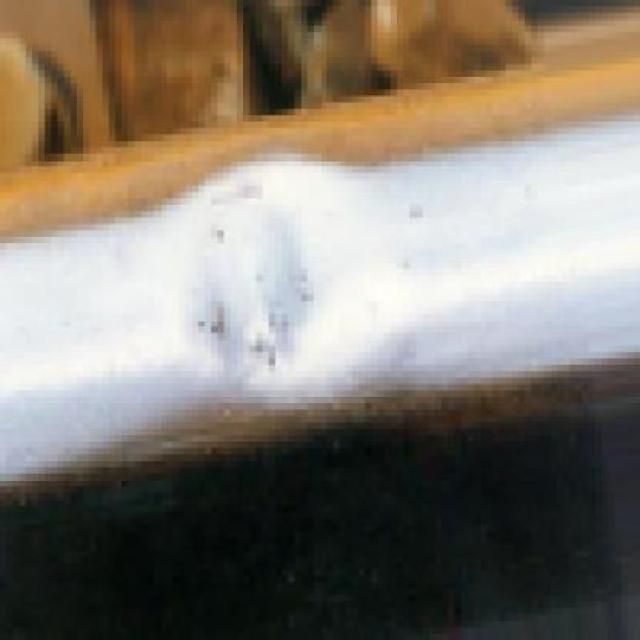defective: (101, 111, 435, 470)
